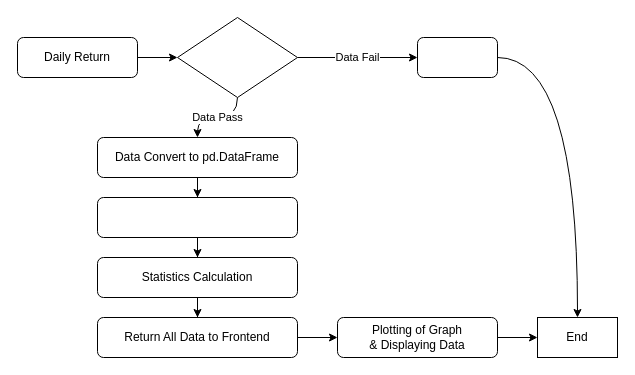
This 635x375 diagram has some shape labels left out. Each missing label, with the box of its shape:
Error Code: (416, 36, 498, 78)
for Loop Calculation of Daily Return: (96, 196, 298, 238)
Validation Check: (176, 16, 298, 98)
